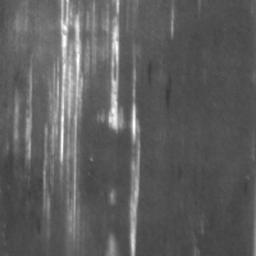Bright scratch: (42, 0, 82, 238), (128, 70, 141, 256), (108, 0, 120, 131), (26, 65, 33, 165)
